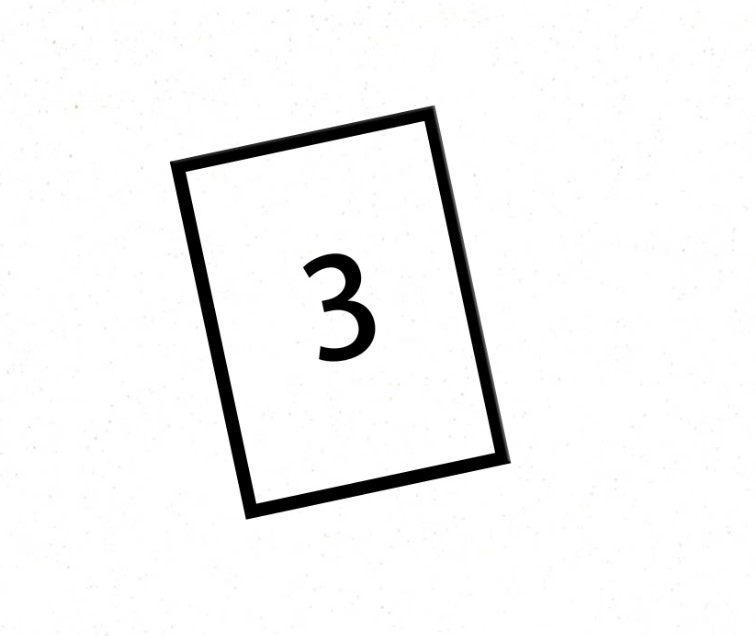three: (267, 217, 405, 396)
